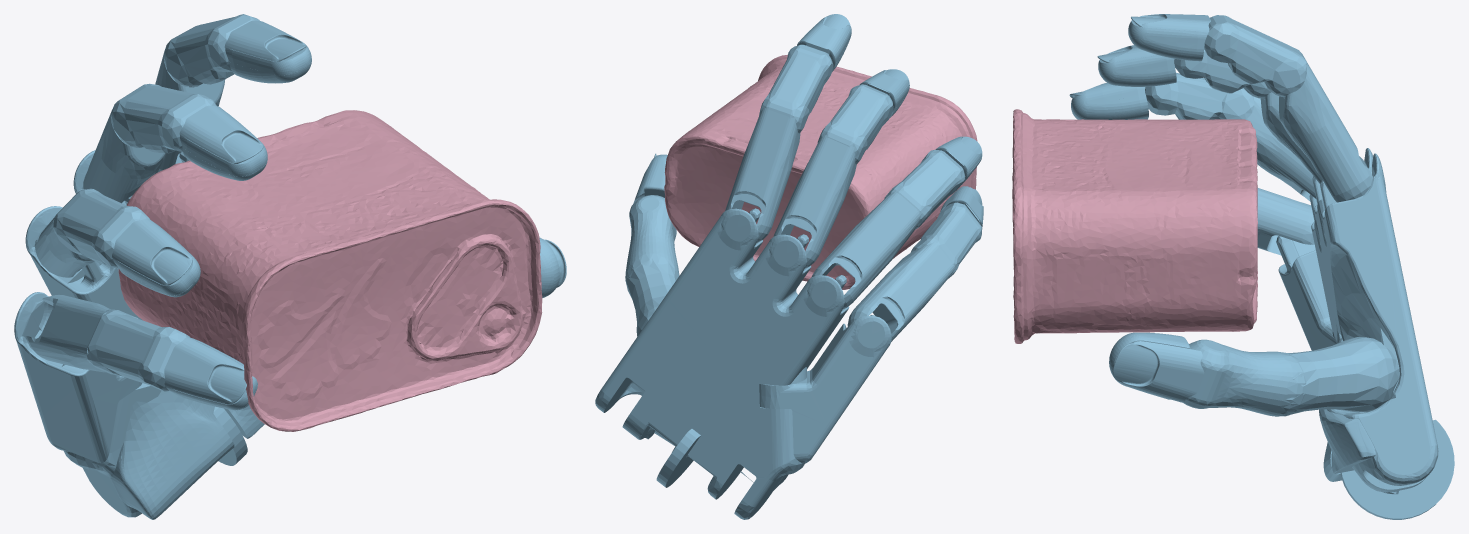
3 renders of one model, left to right at view 1: azimuth 30°, elevation 25°; view 2: azimuth 150°, elevation 25°; view 3: azimuth 270°, elevation 25°, orthographic. The views are drawn at different scales.
Parts seen in each view (by area): view 1: potted_meat_can.stl, world; view 2: world, potted_meat_can.stl; view 3: world, potted_meat_can.stl.
Part boxes in pixels (x1,y1,x2,y2): potted_meat_can.stl: [118, 110, 542, 431]; world: [14, 14, 566, 519]; world: [595, 14, 983, 519]; potted_meat_can.stl: [664, 54, 977, 289]; world: [1069, 14, 1454, 519]; potted_meat_can.stl: [1012, 109, 1257, 343].
Bounding box in the file's own units: 0.1518 × 0.1859 × 0.1504.
